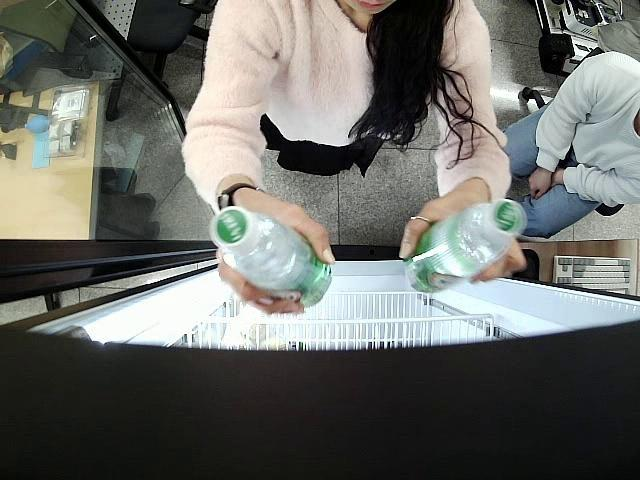18_trevi: (209, 206, 333, 308), (405, 198, 527, 295)
